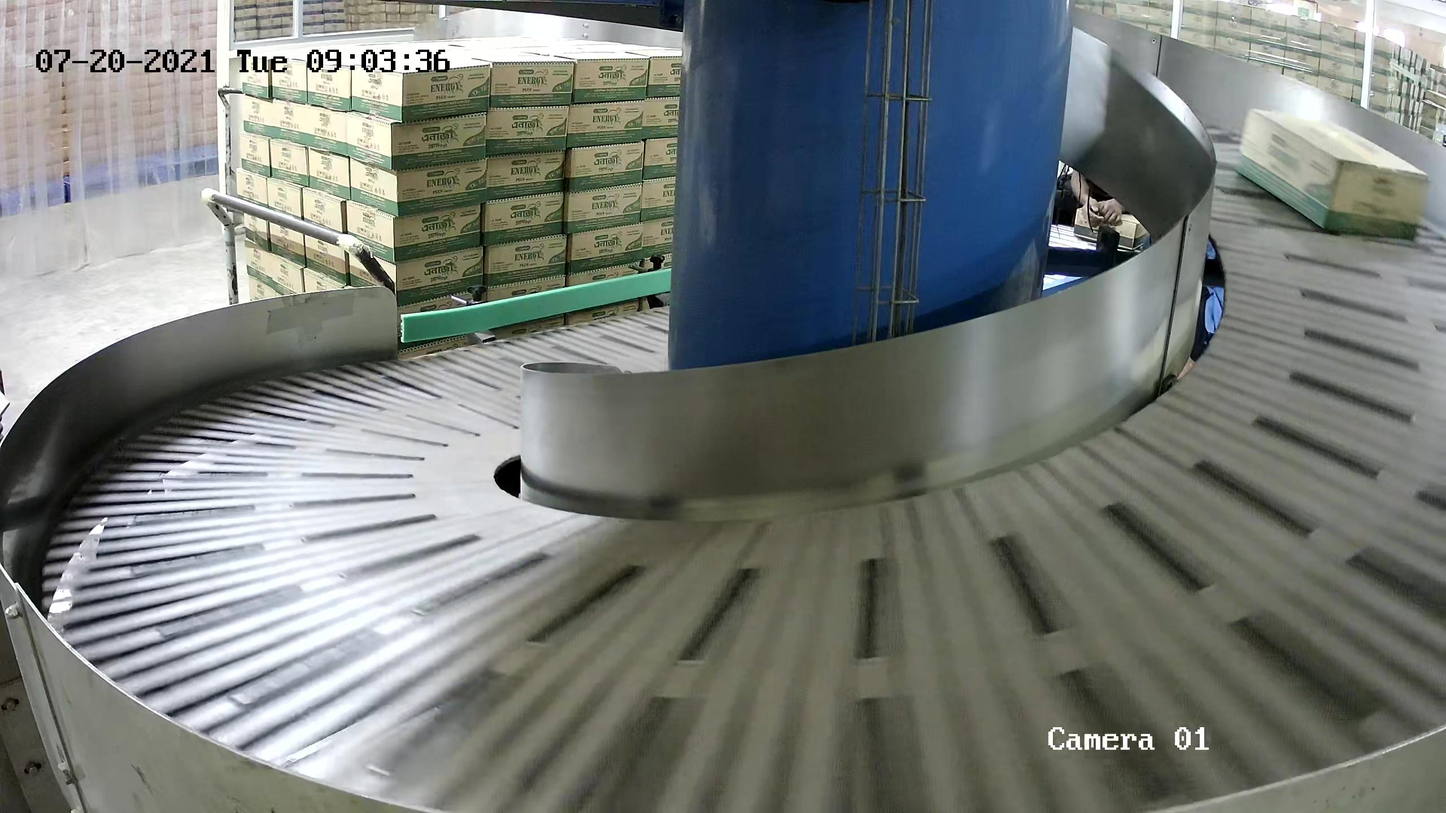Box: (1231, 107, 1431, 241)
